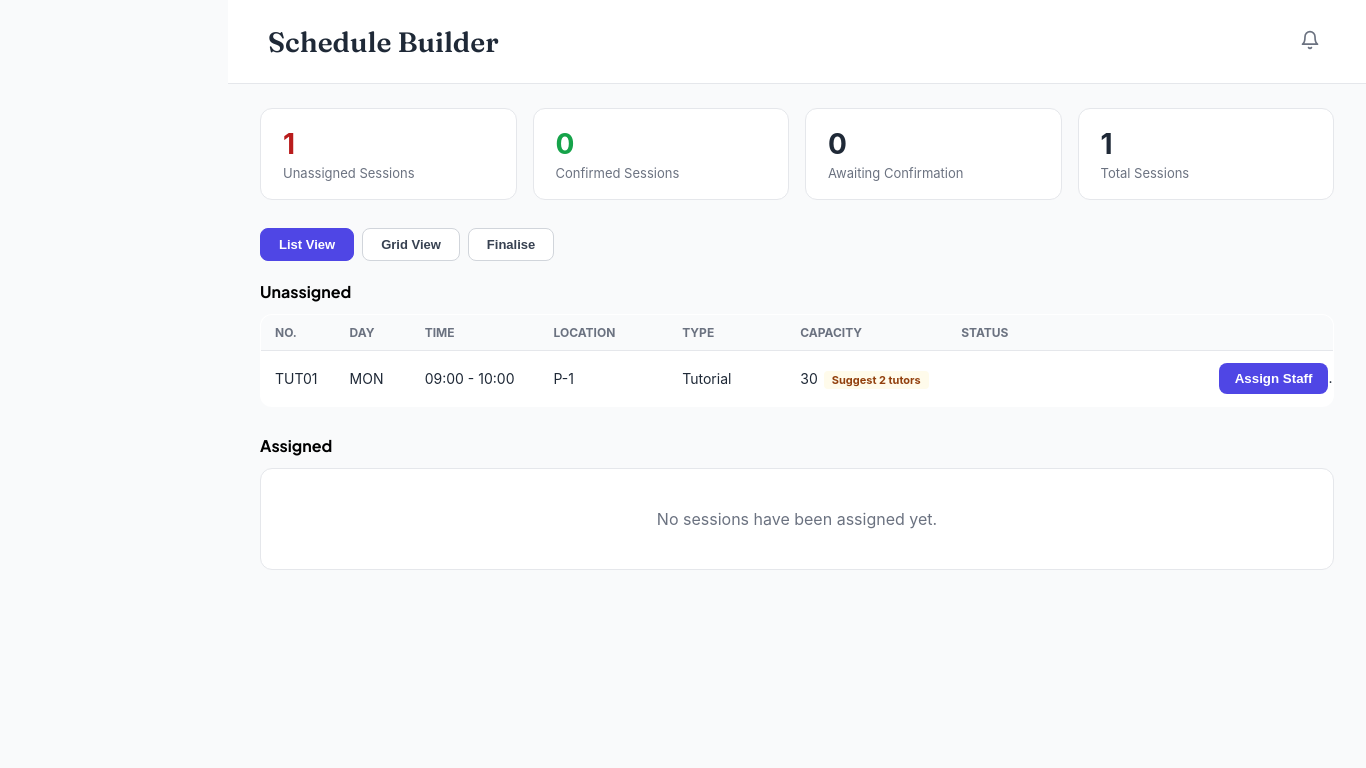
Test: FE-34 a blocked tutor shows the reason and cannot be assigned
Click the button "Assign Staff": (1274, 378) [1219,363,1328,394]
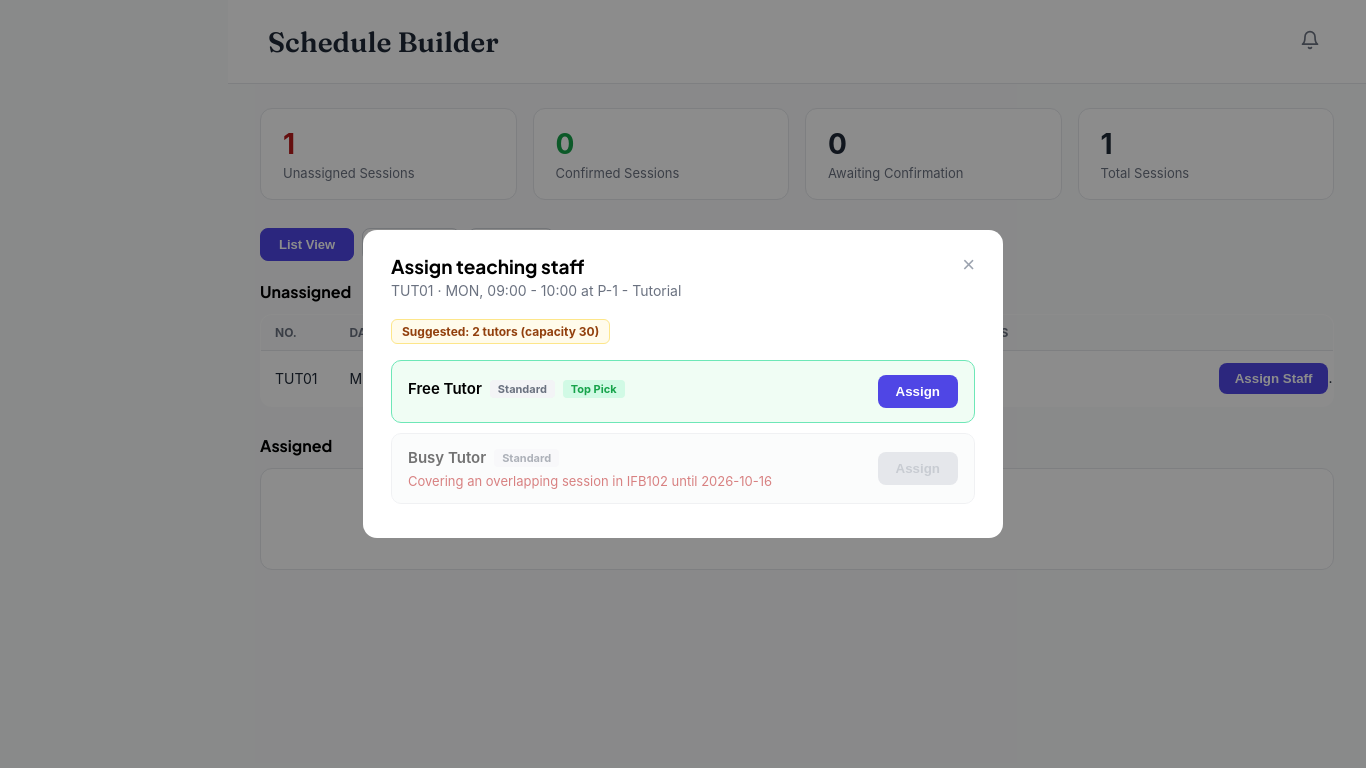
Expected: the text "Free Tutor" is shown, [408,379,482,398]
Expected: the text "Covering an overlapping session in IFB102 until 2026-10-16" is shown, [408,473,772,489]
Expected: the button "Assign" in the row of "Busy Tutor" is disabled, [878,452,958,485]
